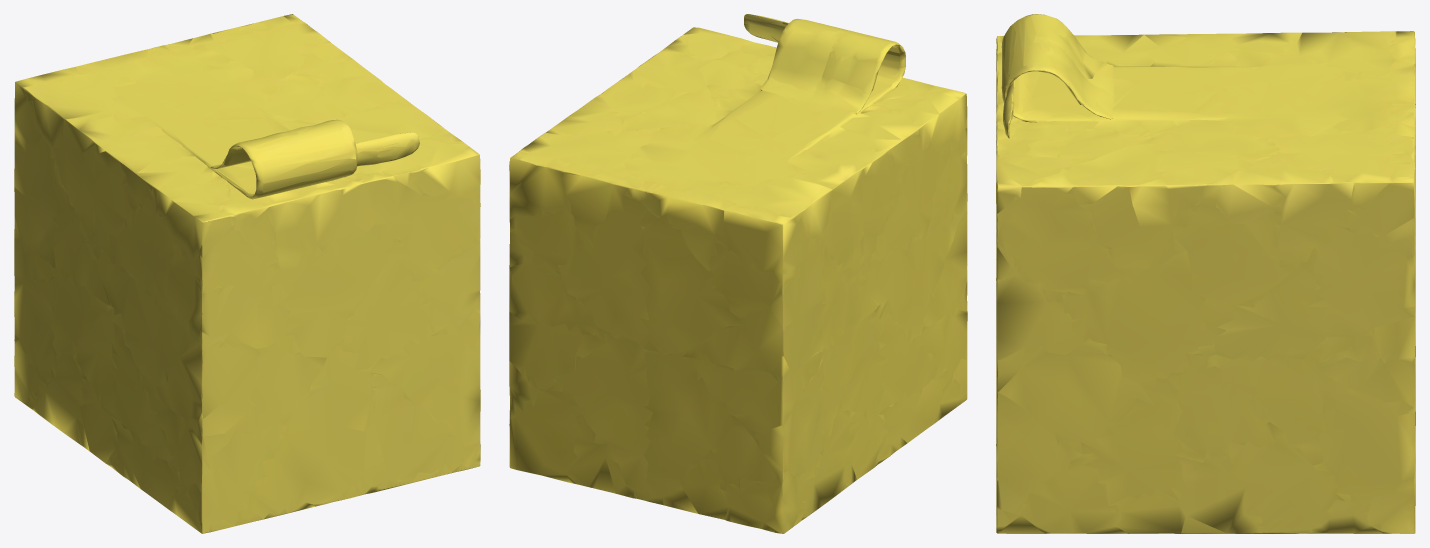
Rendered from pad.glb.
3 renders of one model, left to right at view 1: azimuth 30°, elevation 25°; view 2: azimuth 150°, elevation 25°; view 3: azimuth 270°, elevation 25°, orthographic. The views are drawn at different scales.
Size of the model in its own units: 1.4 by 1.73 by 1.64.
Materials: 1 (1 with a texture image).
